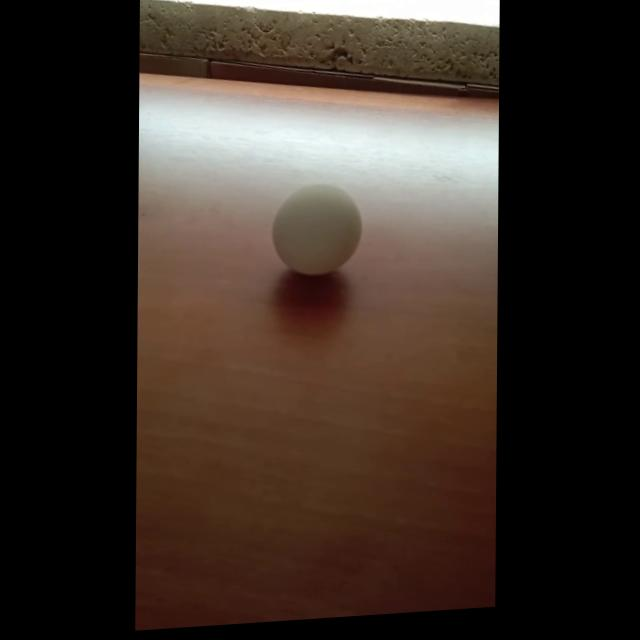white ball: (270, 180, 362, 280)
